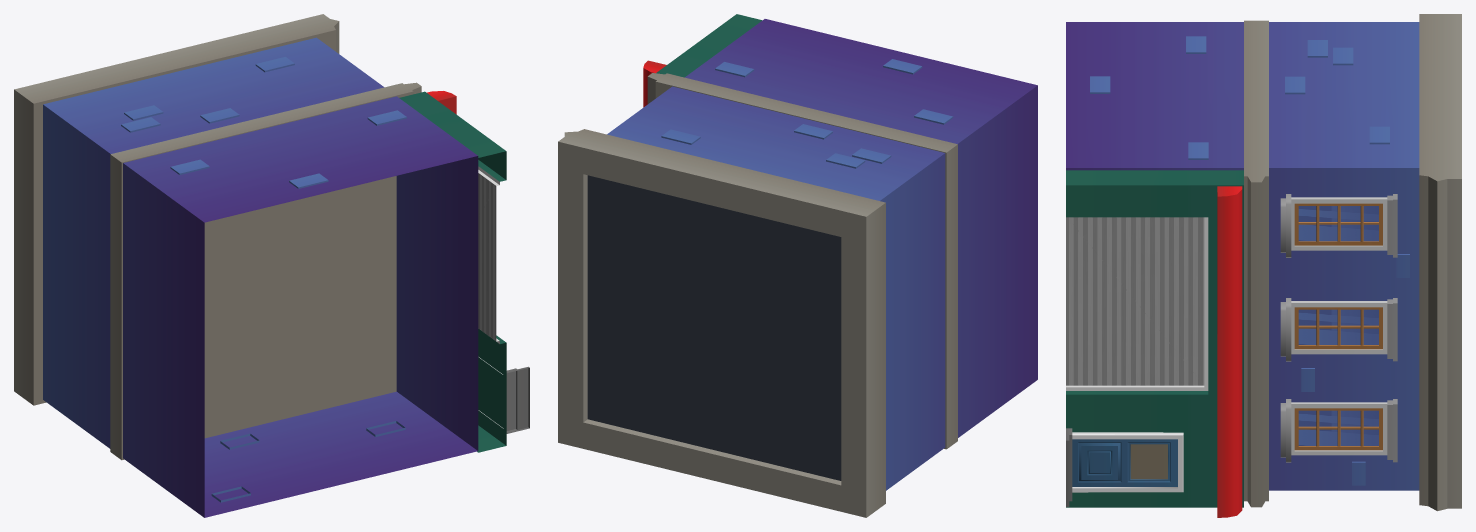
File: Building_19_3_H.glb
3 views of the same model, side by side, from view 1: azimuth 30°, elevation 25°; view 2: azimuth 150°, elevation 25°; view 3: azimuth 270°, elevation 25° (orthographic). The views are drawn at different scales.
Visible parts, largest first — view 1: Building_19_3_H; view 2: Building_19_3_H; view 3: Building_19_3_H.
Part boxes in pixels (x1,y1,x2,y2): Building_19_3_H: (14,14,529,517); Building_19_3_H: (558,14,1037,517); Building_19_3_H: (1066,14,1461,517).
Size of the model in its own units: 7.74 by 6.67 by 7.26.
3 materials, 3 textured.
